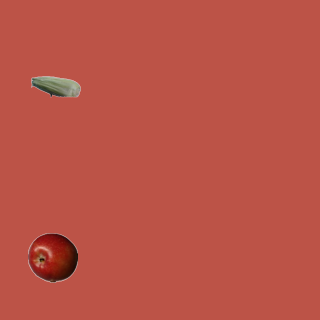Apple Braeburn: (27, 232, 77, 282)
Corn Husk: (30, 61, 80, 111)
